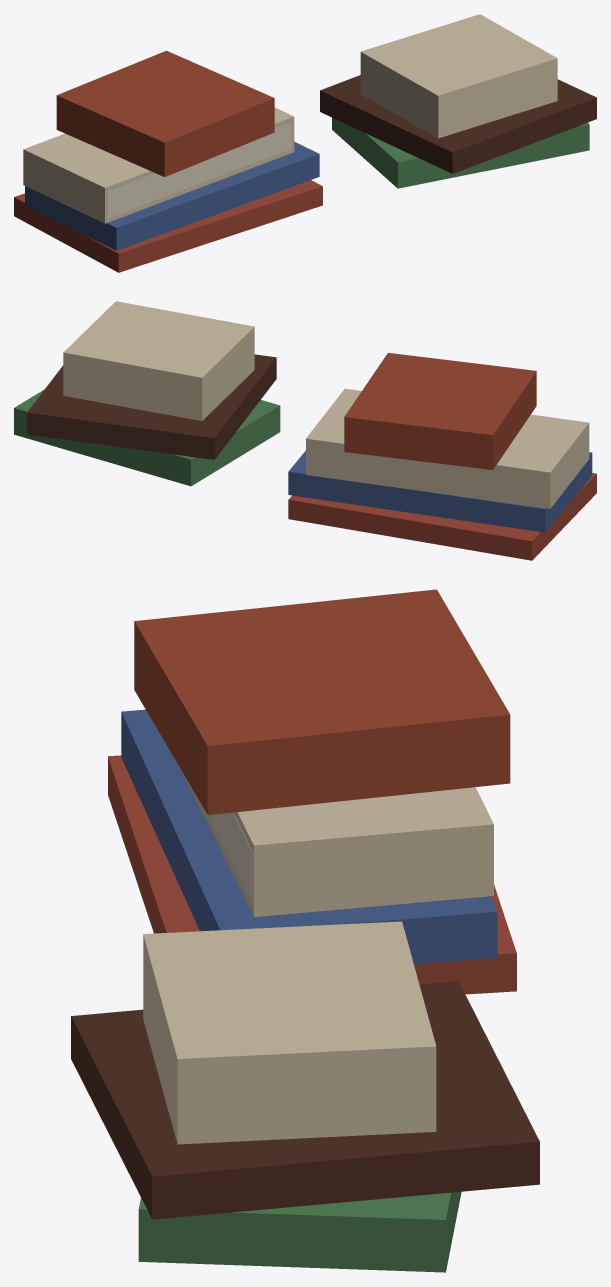
File: book-stack-24.glb
The picture shows the model from 3 angles, top to bottom: view 1: azimuth 30°, elevation 25°; view 2: azimuth 150°, elevation 25°; view 3: azimuth 270°, elevation 25°; orthographic projection. The views are drawn at different scales.
Parts seen in each view (by area): view 1: book_stack_24; view 2: book_stack_24; view 3: book_stack_24.
Boxes of the visible parts, bbox=[...] form: book_stack_24: bbox=[14, 14, 596, 272]; book_stack_24: bbox=[14, 301, 596, 560]; book_stack_24: bbox=[71, 589, 539, 1272].
Size of the model in its own units: 0.6223 by 0.1299 by 0.2456.
